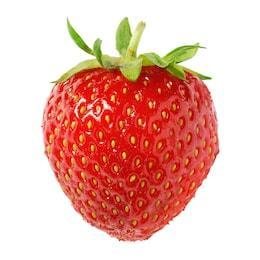Fresa: (38, 52, 226, 244)
